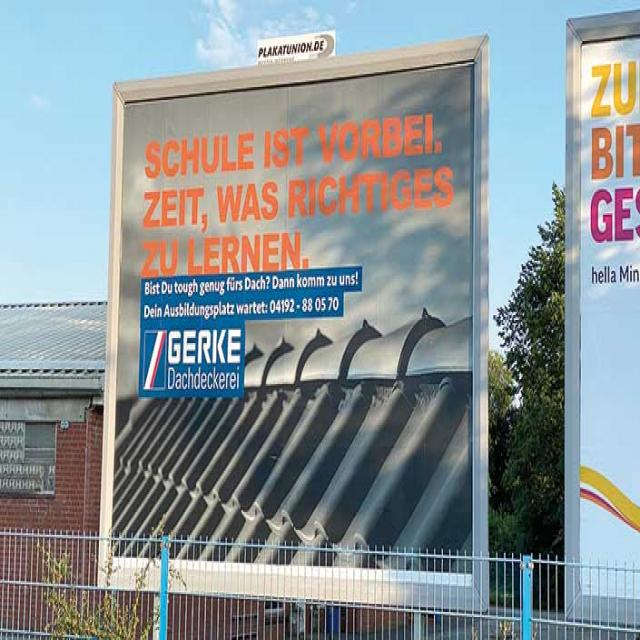Werbetafel frei: (92, 32, 494, 618)
